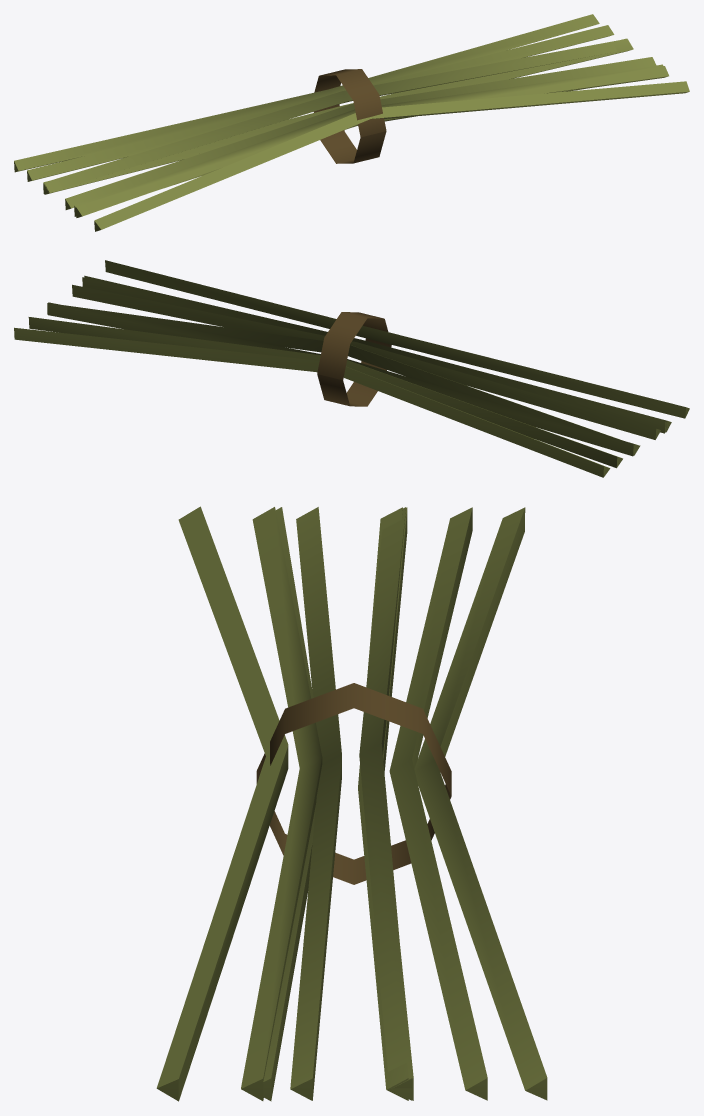
Rendered from fibra.glb.
The picture shows the model from 3 angles, top to bottom: view 1: azimuth 30°, elevation 25°; view 2: azimuth 150°, elevation 25°; view 3: azimuth 270°, elevation 25°; orthographic projection. The views are drawn at different scales.
Visible parts, largest first — view 1: fibra; view 2: fibra; view 3: fibra.
Boxes of the visible parts, <box> form: fibra: <box>14,14,689,231</box>; fibra: <box>14,260,689,477</box>; fibra: <box>156,506,547,1101</box>.
Size of the model in its own units: 0.3612 by 0.052 by 0.1042.
